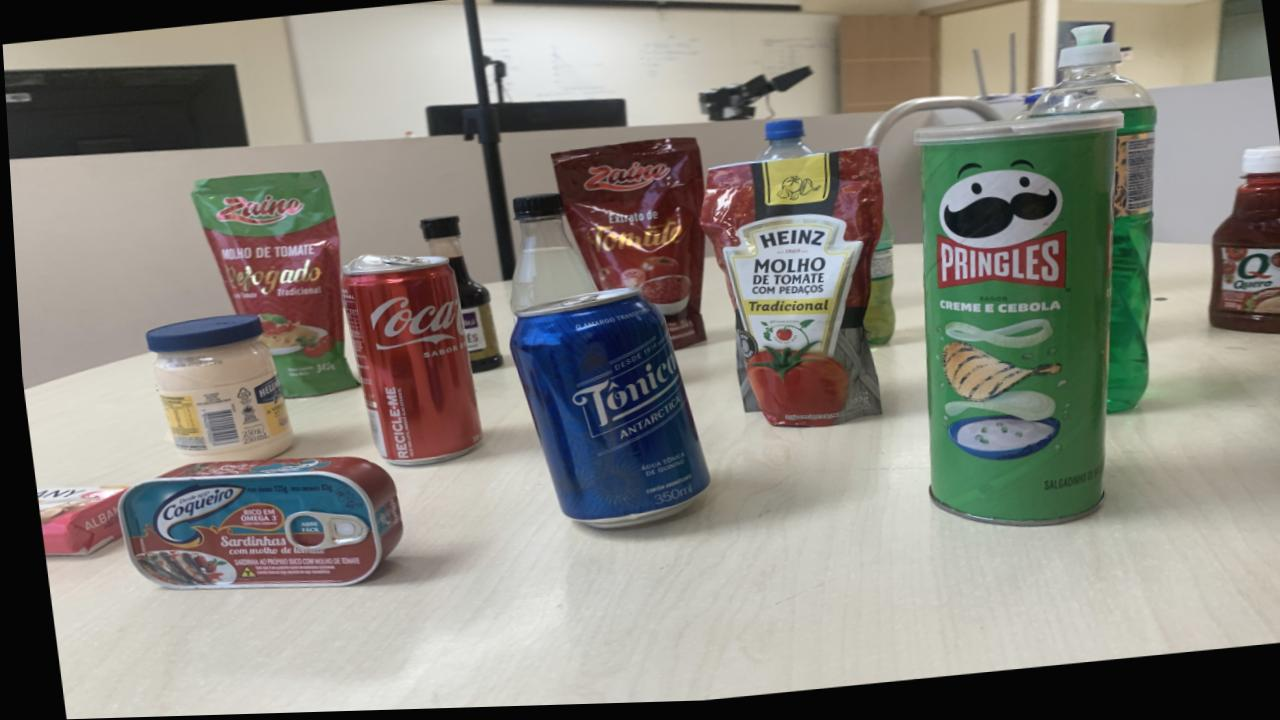Coke-Drinks: (336, 256, 477, 468)
Detergent-Cleanup_Items: (1018, 32, 1154, 418)
English_Sauce-Pantry_Items: (419, 220, 498, 376)
Guarana-Drinks: (858, 220, 891, 350)
Ketchup-Pantry_Items: (1203, 153, 1280, 341), (1203, 174, 1280, 341)
Mayonnaise-Pantry_Items: (141, 315, 288, 462)
Pringles-Snacks: (914, 119, 1122, 531)
Soap-Cleanup_Items: (30, 486, 121, 556)
Soda-Drinks: (506, 196, 593, 316)
Tomato_Sauce-Pantry_Items: (697, 152, 880, 432), (189, 173, 352, 399), (549, 141, 702, 353)
Tonic-Drinks: (506, 292, 703, 530)
Tuna_Can-Pantry_Items: (111, 458, 395, 590)
Water_Bottle-Drinks: (753, 123, 811, 166)
